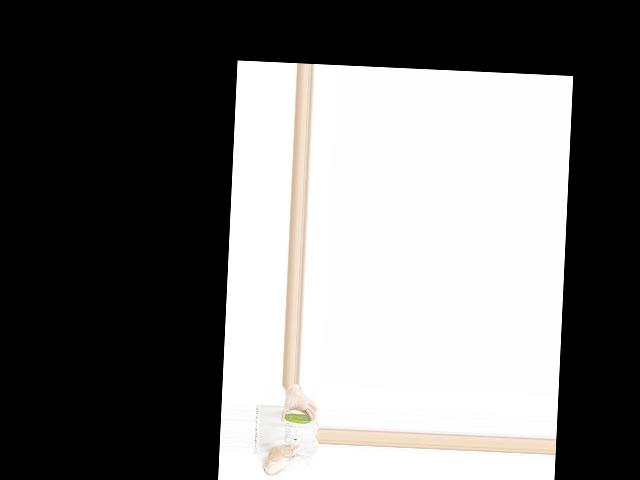cucumber: (283, 412, 310, 423)
